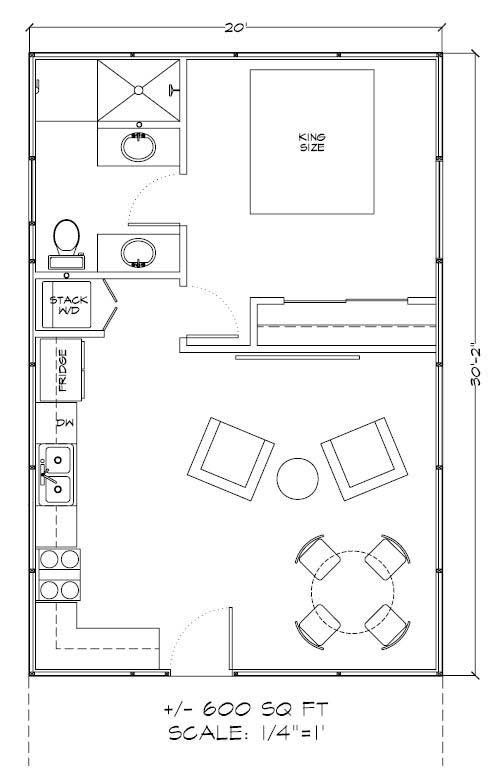door: (176, 599, 243, 689), (116, 167, 195, 226), (180, 286, 248, 349)
room: (27, 357, 451, 677), (24, 45, 447, 358)
wall: (429, 49, 450, 680), (173, 339, 438, 363), (26, 223, 38, 676), (29, 49, 447, 62), (229, 665, 451, 682), (34, 665, 174, 682), (21, 56, 40, 158), (247, 293, 261, 345), (246, 294, 286, 312), (409, 293, 437, 312)
window: (28, 163, 41, 220)
